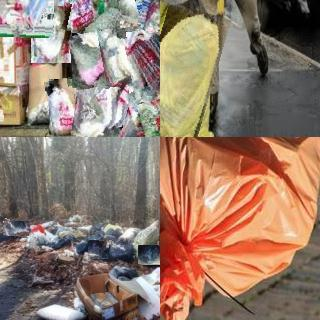Garbage: (160, 137, 320, 320), (160, 2, 222, 137), (73, 71, 120, 137), (78, 98, 146, 137), (100, 28, 143, 86), (126, 32, 160, 101), (31, 6, 71, 63), (70, 32, 109, 89), (0, 0, 54, 37), (47, 78, 80, 136), (128, 83, 160, 137), (133, 0, 160, 60), (116, 0, 160, 34), (60, 0, 100, 34), (106, 242, 137, 263), (3, 220, 30, 237), (138, 245, 160, 265), (88, 241, 109, 259)
